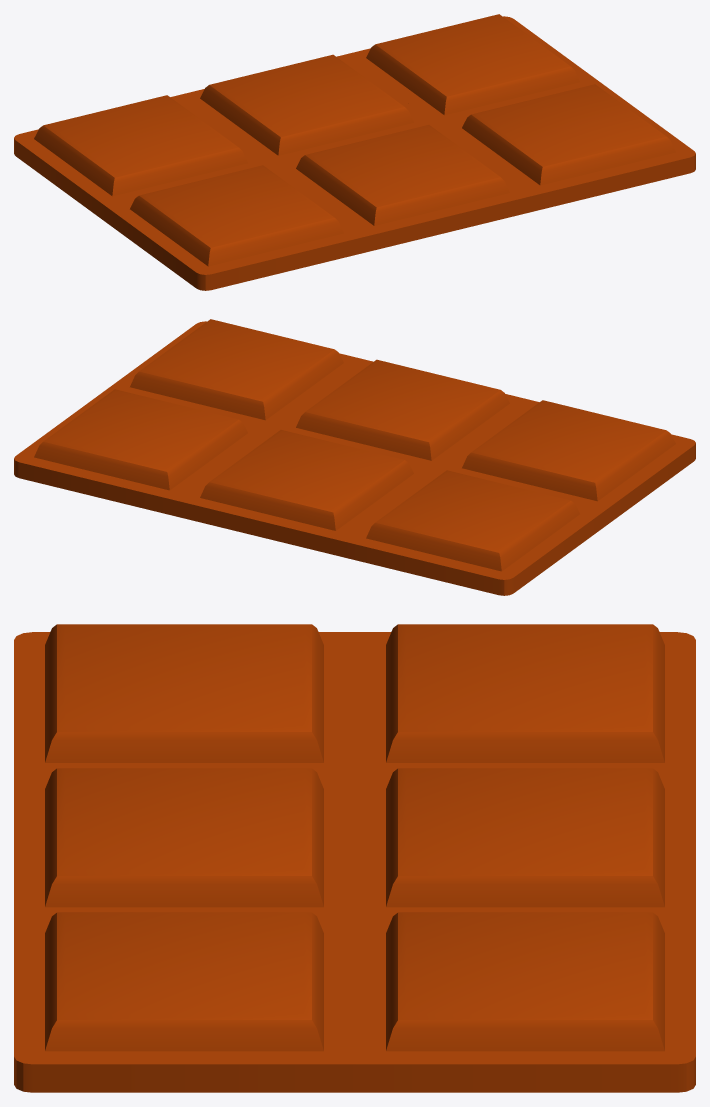
Rendered from Chocolate L.fbx.
The picture shows the model from 3 angles, top to bottom: view 1: azimuth 30°, elevation 25°; view 2: azimuth 150°, elevation 25°; view 3: azimuth 270°, elevation 25°; orthographic projection. The views are drawn at different scales.
Parts seen in each view (by area): view 1: Chocolate L; view 2: Chocolate L; view 3: Chocolate L.
Part boxes in pixels (x1,y1,x2,y2): Chocolate L: [14, 14, 695, 290]; Chocolate L: [14, 319, 695, 595]; Chocolate L: [14, 624, 695, 1092].
Size of the model in its own units: 0.9273 by 0.057 by 0.6182.
